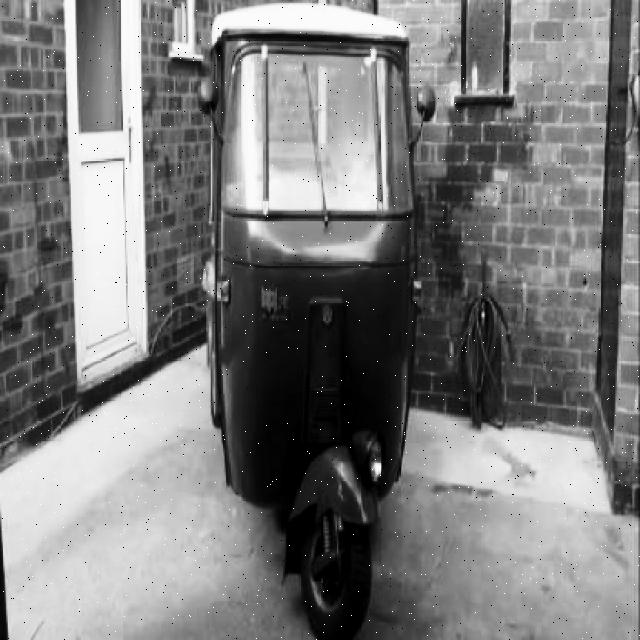Auto-Rickshaw: (204, 0, 419, 638)
